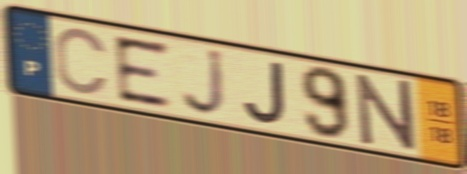9: (296, 63, 353, 142)
C: (53, 25, 112, 98)
E: (110, 33, 175, 110)
J: (180, 47, 230, 120), (242, 60, 289, 127)
N: (353, 71, 420, 154)
